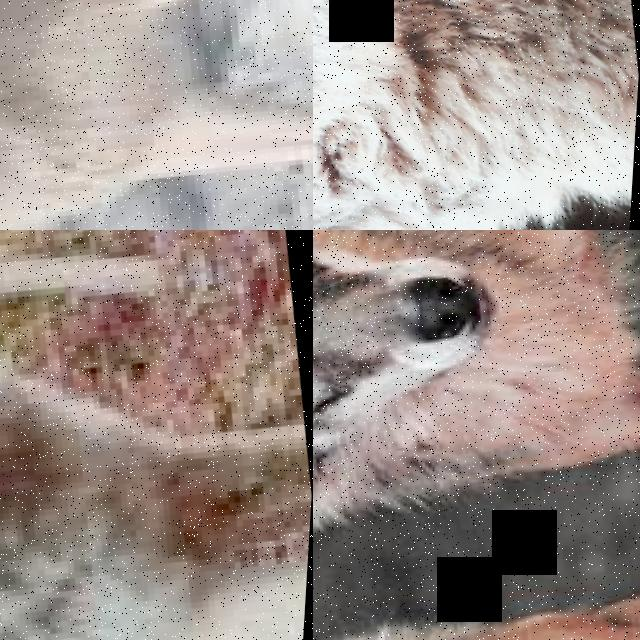wolf: (0, 230, 313, 640), (313, 230, 640, 587), (313, 0, 640, 230), (0, 0, 313, 230), (313, 480, 640, 640)
